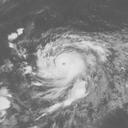cyclone: (30, 31, 109, 115)
